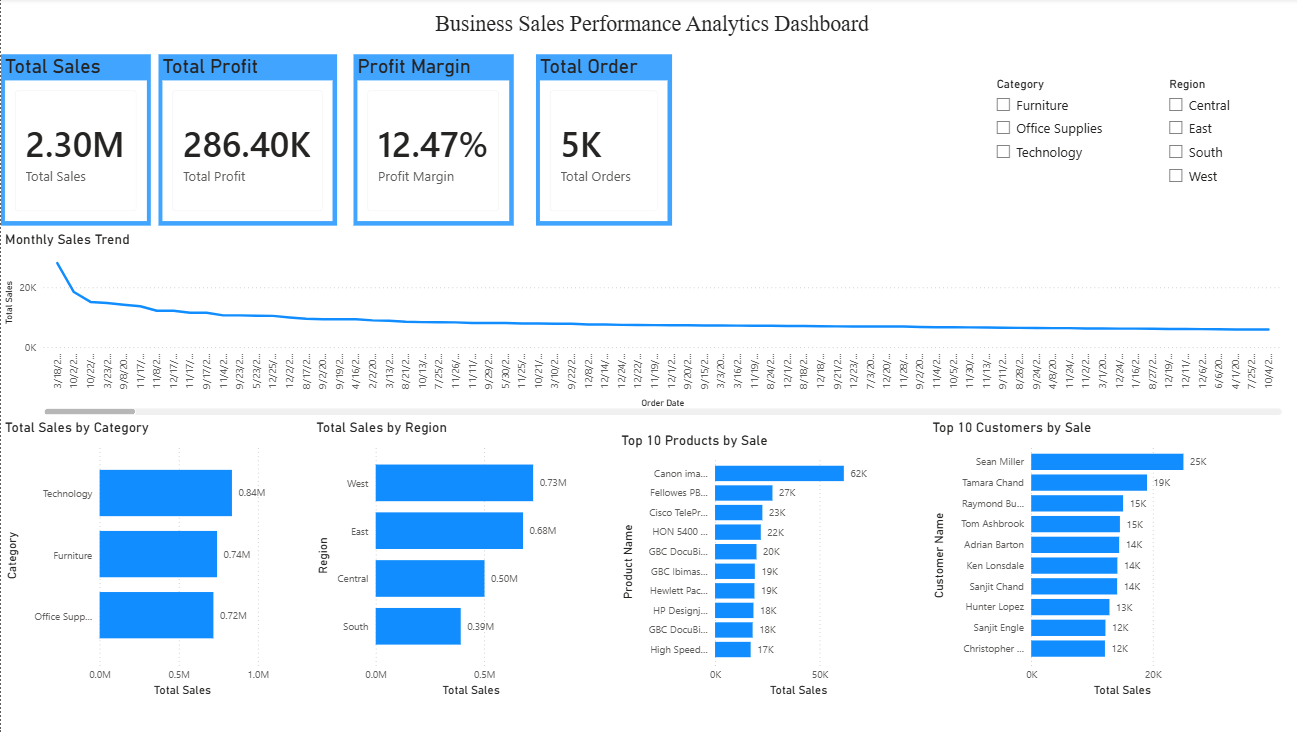

Layout of this report page (visuals, bound fields, positions):
{"tool":"powerbi","page":{"name":"Page 1","canvas":[1600,900],"ordinal":0},"visuals":[{"type":"cardVisual","title":"Total Sales","fields":{"Data":["Sample - Superstore.Total Sales"]},"box":[0,68.8,183.4,209.4],"z":0},{"type":"cardVisual","title":"Profit Margin","fields":{"Data":["Sample - Superstore.Profit Margin"]},"box":[431,68.8,195.7,209.4],"z":1000},{"type":"cardVisual","title":"Total Profit","fields":{"Data":["Sample - Superstore.Total Profit"]},"box":[192.6,68.8,218.6,209.4],"z":2000},{"type":"cardVisual","title":"Total Order","fields":{"Data":["Sample - Superstore.Total Orders"]},"box":[654.2,68.8,166.6,209.4],"z":3000},{"type":"lineChart","title":"Monthly Sales Trend","fields":{"Category":["Sample - Superstore.Order Date"],"Y":["Sample - Superstore.Total Sales"]},"box":[0,284.3,1571.3,230.8],"z":3001},{"type":"clusteredBarChart","fields":{"Category":["Sample - Superstore.Category"],"Y":["Sample - Superstore.Total Sales"]},"box":[0,515.1,342.4,343.9],"z":3002},{"type":"clusteredBarChart","fields":{"Category":["Sample - Superstore.Region"],"Y":["Sample - Superstore.Total Sales"]},"box":[380.6,515.1,330.2,343.9],"z":3003},{"type":"clusteredBarChart","title":"Top 10 Products by Sale","fields":{"Category":["Sample - Superstore.Product Name"],"Y":["Sample - Superstore.Total Sales"]},"box":[753.6,530.4,339.3,328.6],"z":3004},{"type":"clusteredBarChart","title":"Top 10 Customers by Sale","fields":{"Category":["Sample - Superstore.Customer Name"],"Y":["Sample - Superstore.Total Sales"]},"box":[1134.2,515.1,363.8,343.9],"z":3005},{"type":"slicer","fields":{"Values":["Sample - Superstore.Region"]},"box":[1415.4,91.7,185,165.1],"z":3006},{"type":"slicer","fields":{"Values":["Sample - Superstore.Category"]},"box":[1204.5,91.7,171.2,165.1],"z":3007},{"type":"textbox","box":[0,10.7,1600.4,44.3],"z":3008}]}

Visuals, with their boxes in screenshot pixels (x1, y1, x2, y2), scaled from the page's 1600x900 canvas onto the 1297x732 screenshot:
"Total Sales" cardVisual: [left=0, top=56, right=149, bottom=226]
"Profit Margin" cardVisual: [left=349, top=56, right=508, bottom=226]
"Total Profit" cardVisual: [left=156, top=56, right=333, bottom=226]
"Total Order" cardVisual: [left=530, top=56, right=665, bottom=226]
"Monthly Sales Trend" lineChart: [left=0, top=231, right=1274, bottom=419]
clusteredBarChart - Sample - Superstore.Category x Sample - Superstore.Total Sales: [left=0, top=419, right=278, bottom=699]
clusteredBarChart - Sample - Superstore.Region x Sample - Superstore.Total Sales: [left=309, top=419, right=576, bottom=699]
"Top 10 Products by Sale" clusteredBarChart: [left=611, top=431, right=886, bottom=699]
"Top 10 Customers by Sale" clusteredBarChart: [left=919, top=419, right=1214, bottom=699]
slicer - Sample - Superstore.Region: [left=1147, top=75, right=1296, bottom=209]
slicer - Sample - Superstore.Category: [left=976, top=75, right=1115, bottom=209]
textbox: [left=0, top=9, right=1296, bottom=45]
